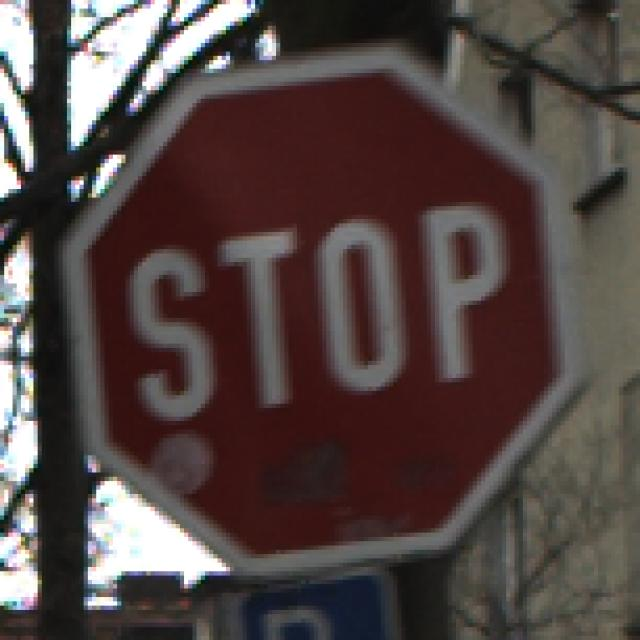STOP: (60, 57, 583, 585)
